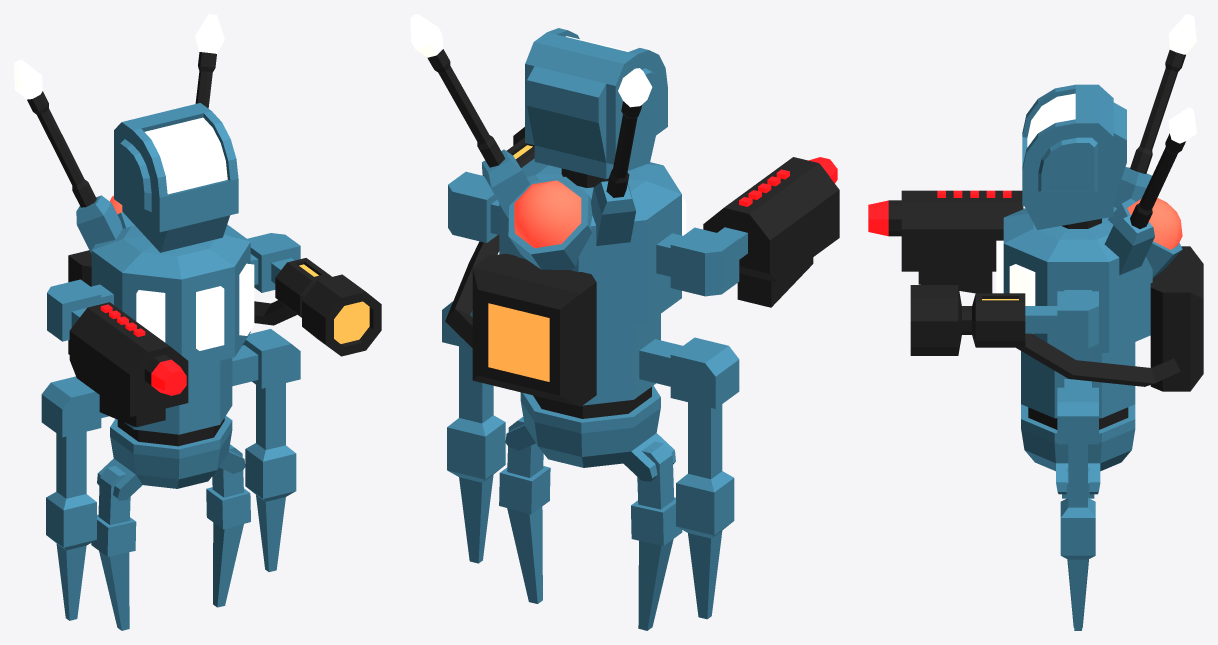
The model's file is Commander.fbx.
3 views of the same model, side by side, from view 1: azimuth 30°, elevation 25°; view 2: azimuth 150°, elevation 25°; view 3: azimuth 270°, elevation 25° (orthographic). The views are drawn at different scales.
Visible parts, largest first — view 1: CommanderTopBody_ex, CommanderLowerBody_ex, CommanderLowerArms_ex, CommanderLaser_ex, CommanderFlamer_ex, CommanderShield_ex; view 2: CommanderTopBody_ex, CommanderLowerBody_ex, CommanderFlamer_ex, CommanderLowerArms_ex, CommanderLaser_ex, CommanderShield_ex, CommanderHealth_ex; view 3: CommanderTopBody_ex, CommanderFlamer_ex, CommanderLaser_ex, CommanderLowerBody_ex, CommanderShield_ex, CommanderLowerArms_ex, CommanderHealth_ex.
Part boxes in pixels (x1,y1,x2,y2): CommanderTopBody_ex: (91, 103, 254, 368); CommanderLowerBody_ex: (91, 358, 250, 630); CommanderLowerArms_ex: (41, 329, 300, 620); CommanderLaser_ex: (47, 279, 188, 427); CommanderFlamer_ex: (68, 233, 381, 356); CommanderShield_ex: (14, 14, 224, 253); CommanderTopBody_ex: (499, 28, 686, 329); CommanderLowerBody_ex: (499, 314, 682, 630); CommanderFlamer_ex: (445, 127, 596, 406); CommanderLowerArms_ex: (442, 301, 739, 619); CommanderLaser_ex: (656, 157, 839, 307); CommanderShield_ex: (410, 14, 652, 245); CommanderHealth_ex: (514, 180, 581, 248); CommanderTopBody_ex: (996, 84, 1182, 352); CommanderFlamer_ex: (910, 246, 1203, 391); CommanderLaser_ex: (868, 190, 1024, 293); CommanderLowerBody_ex: (1021, 342, 1135, 627); CommanderShield_ex: (1104, 14, 1196, 275); CommanderLowerArms_ex: (1057, 379, 1098, 630); CommanderHealth_ex: (1127, 198, 1182, 249).
Size of the model in its own units: 1.73 by 3.47 by 1.95.
